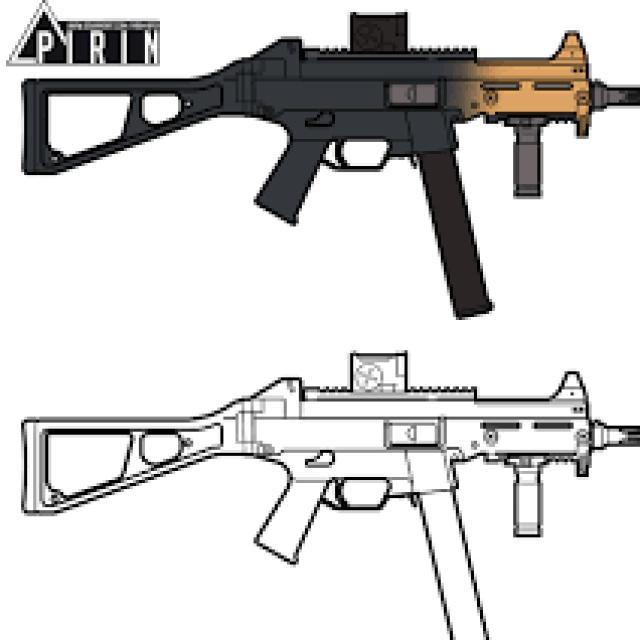Gun: (6, 0, 640, 326), (9, 329, 640, 640)
